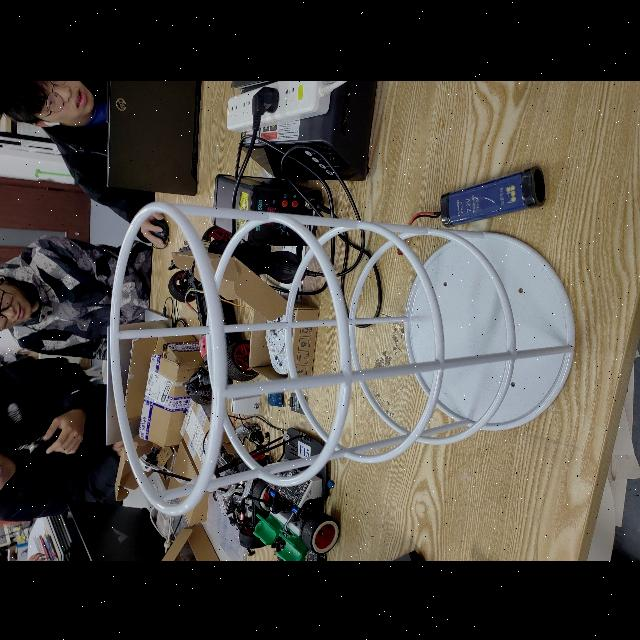S: (102, 197, 578, 518)
